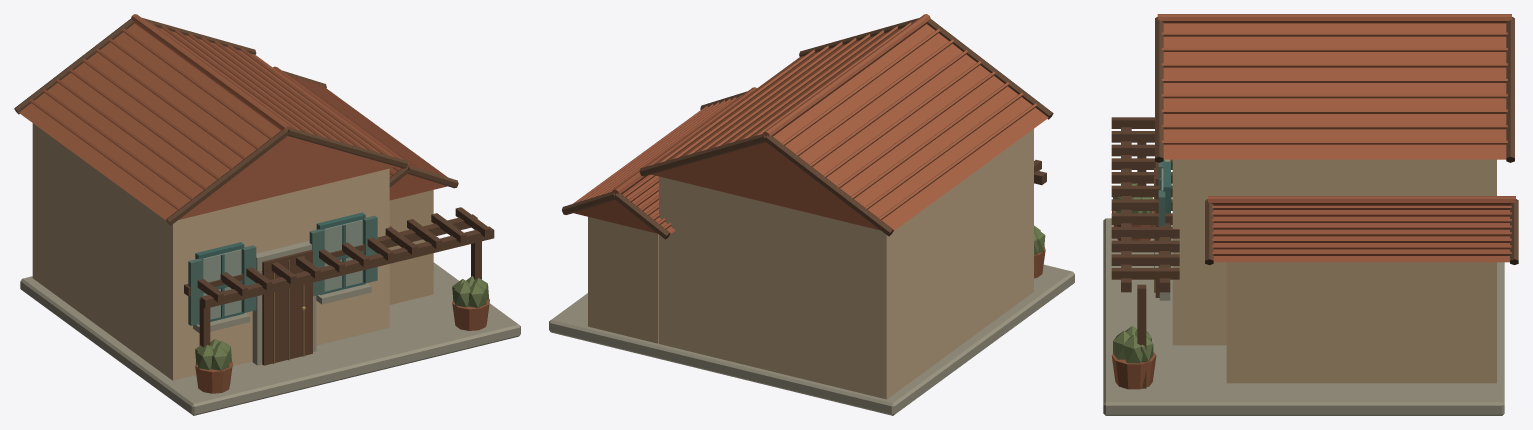
The model's file is build-villa.glb.
The picture shows the model from 3 angles, left to right: view 1: azimuth 30°, elevation 25°; view 2: azimuth 150°, elevation 25°; view 3: azimuth 270°, elevation 25°; orthographic projection. The views are drawn at different scales.
Parts seen in each view (by area): view 1: SculptedModel; view 2: SculptedModel; view 3: SculptedModel.
Part boxes in pixels (<box>): SculptedModel: <box>14,14,520,415</box>; SculptedModel: <box>549,14,1074,415</box>; SculptedModel: <box>1103,14,1518,415</box>.
Bounding box in the file's own units: 5.73 × 4.06 × 5.38.
